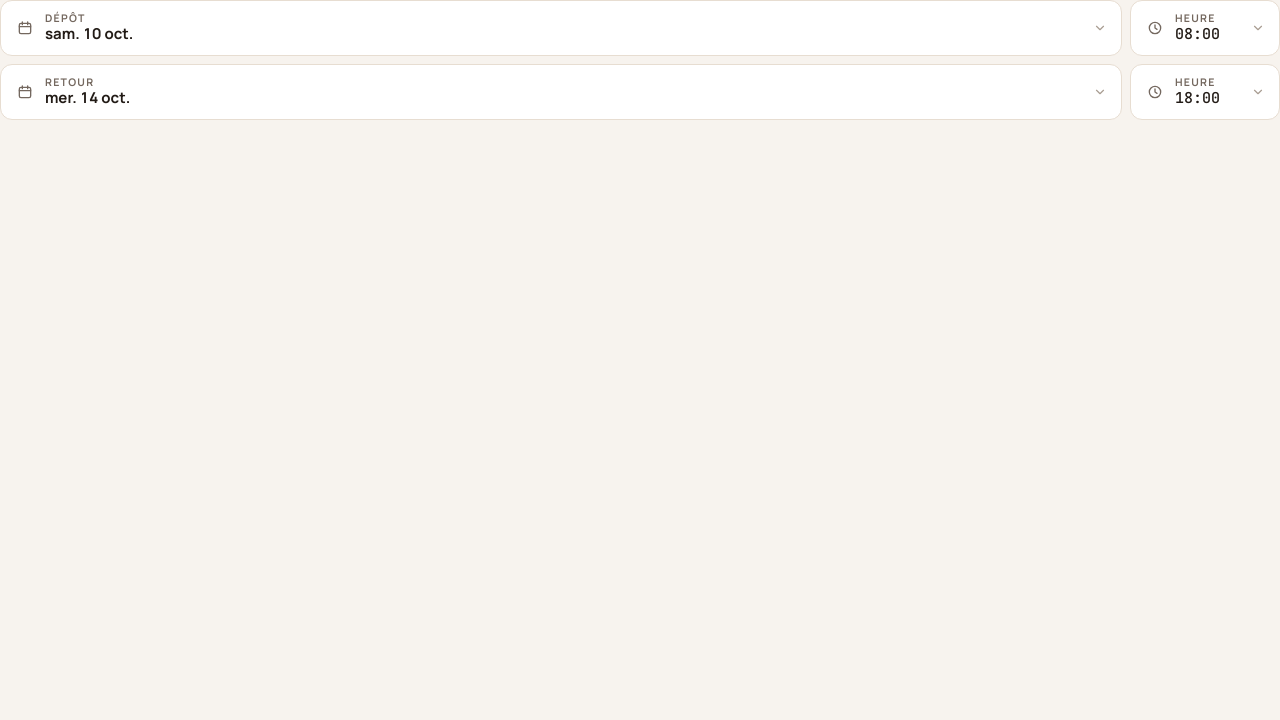
Test: StayFields › moves with the arrow keys, selects with Enter and discards with Escape
Click the button with aria-label "Date de retour": (70, 82) [0,64,1122,120]
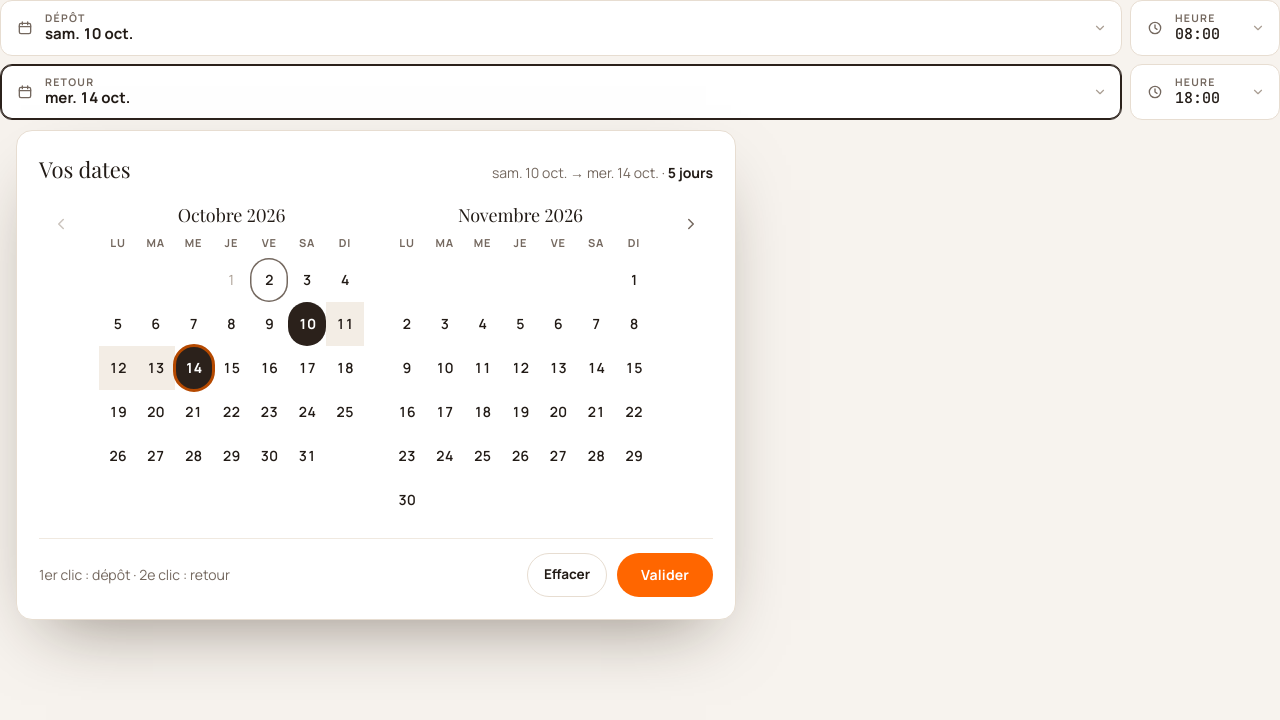
Press Arrowright Arrowdown
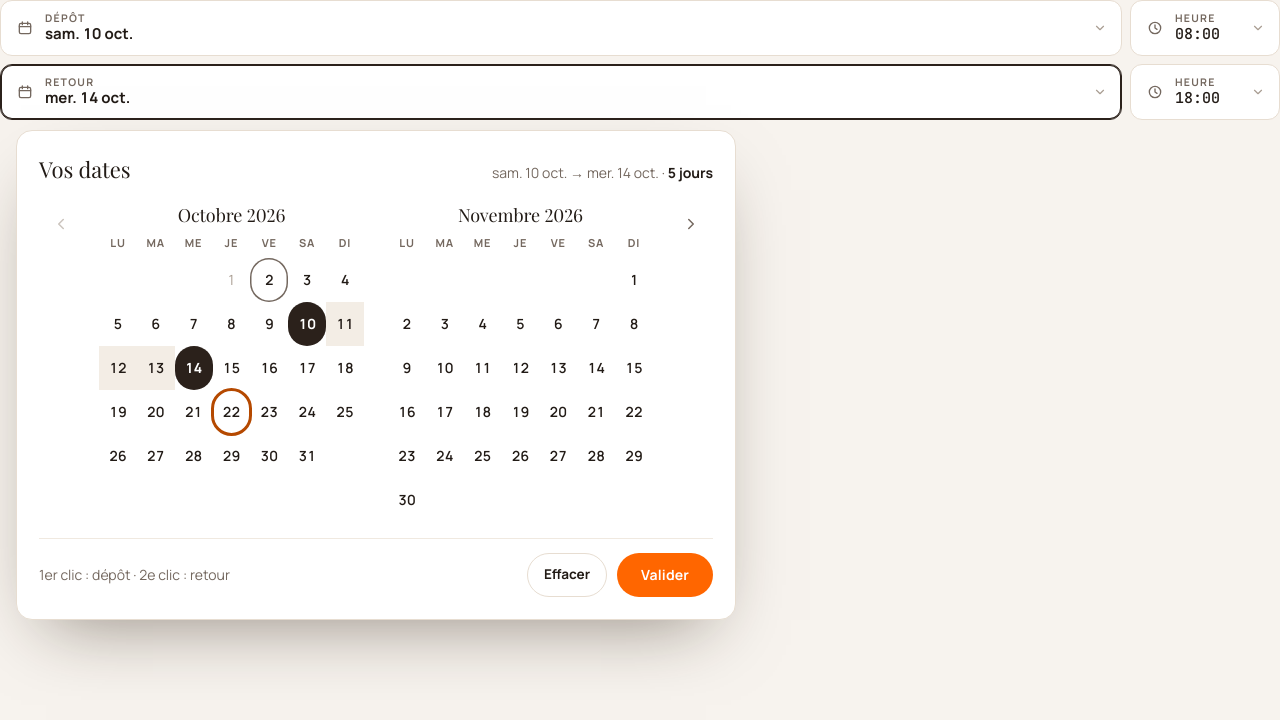
Press Enter
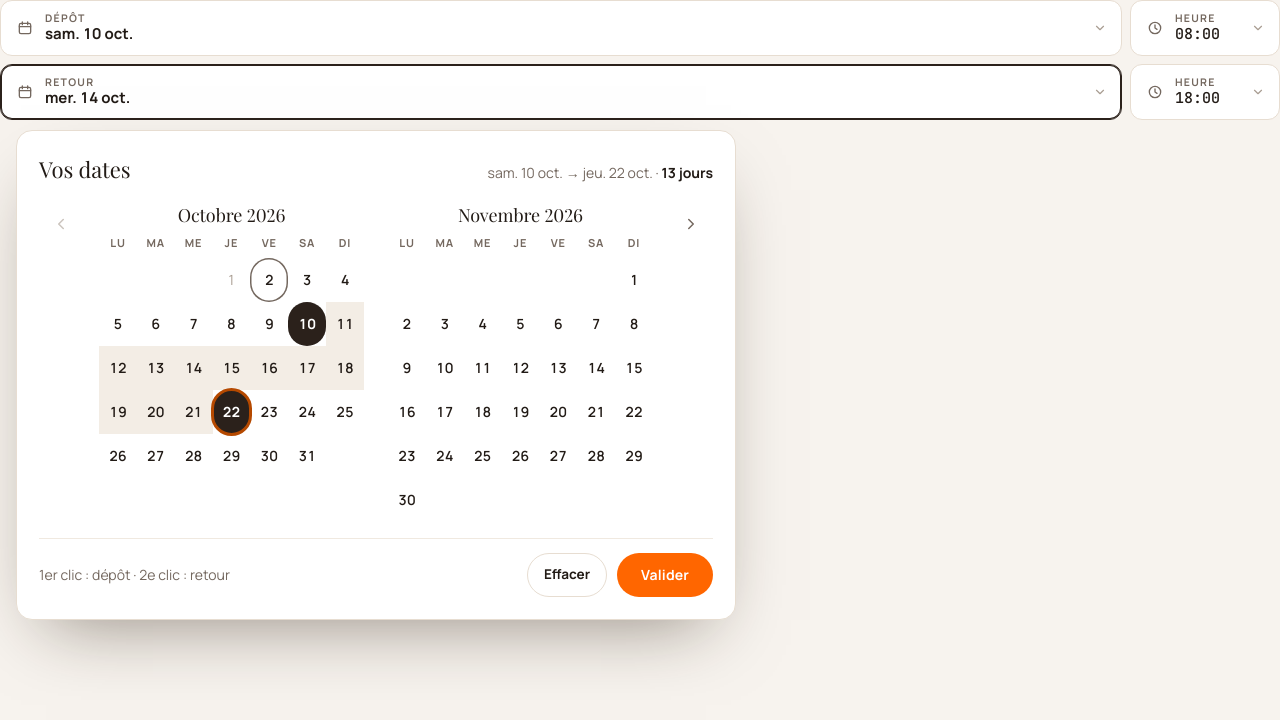
Expected: the text "13 jours" is shown, [662,163,713,182]
Press Escape
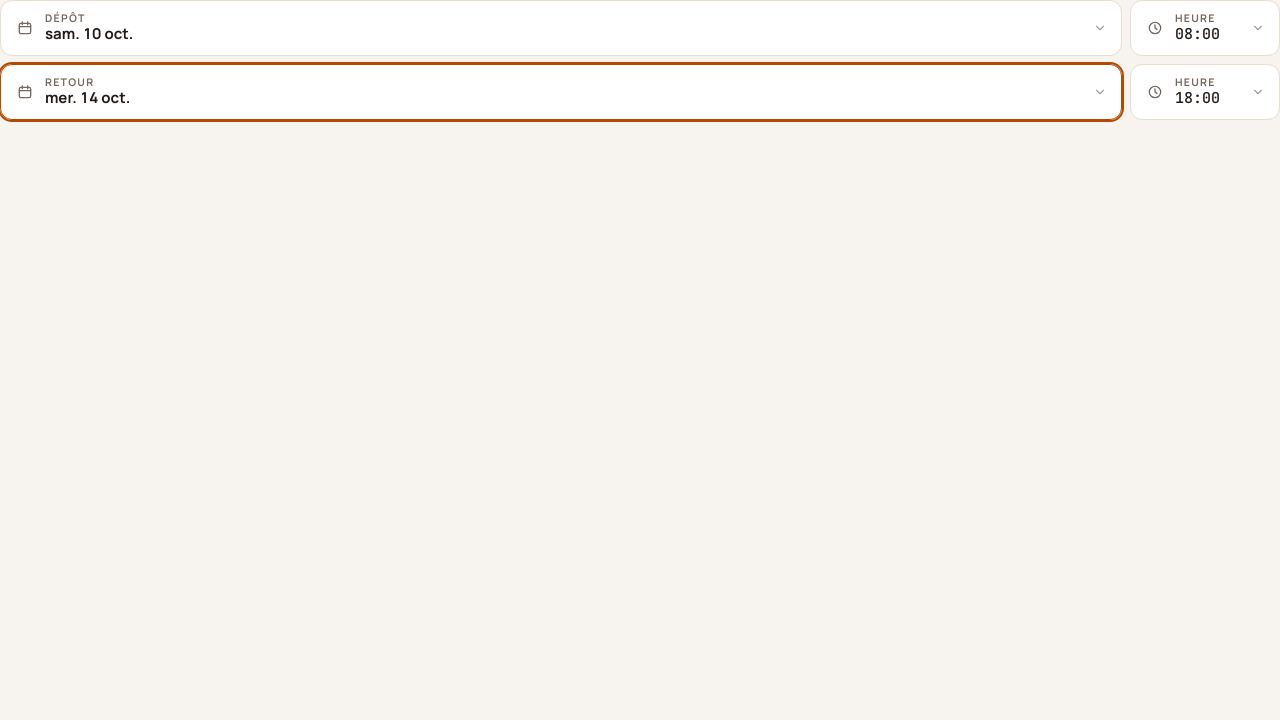
Expected: the dialog is gone
